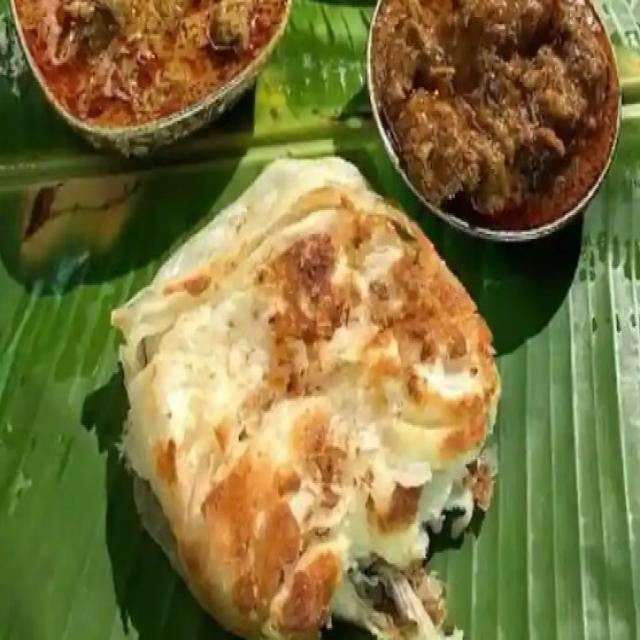CURRY: (372, 0, 620, 233), (15, 0, 288, 133)
PAROTTA: (110, 153, 507, 638)
